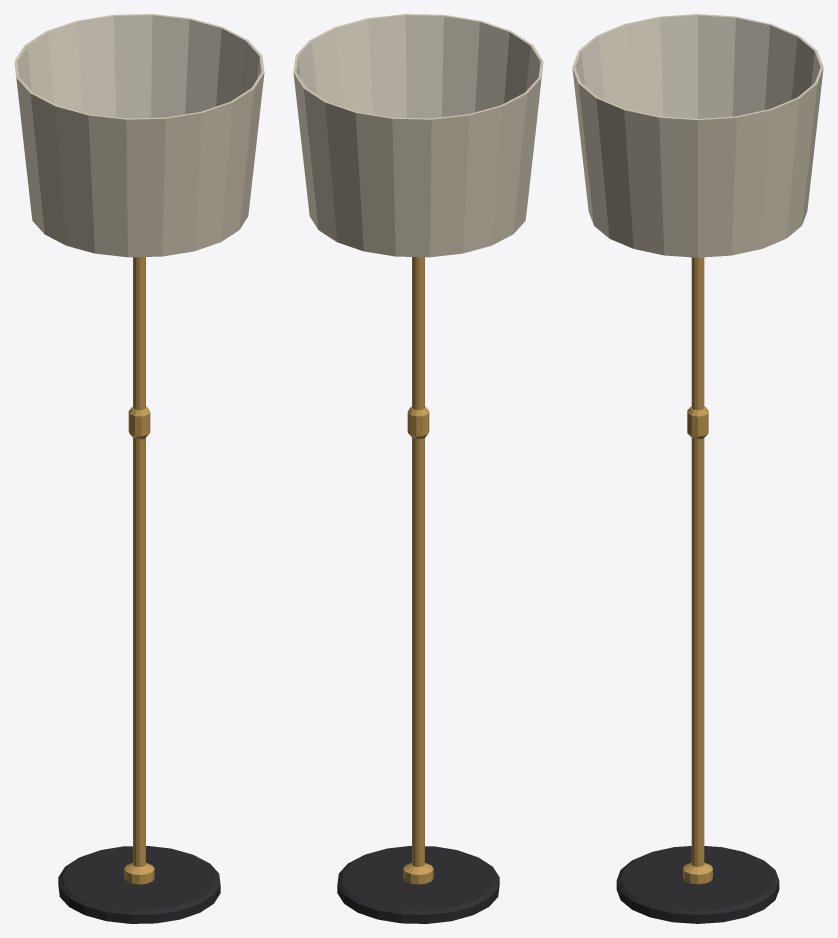
Rendered from FN_Lamp_Floor.glb.
3 renders of one model, left to right at view 1: azimuth 30°, elevation 25°; view 2: azimuth 150°, elevation 25°; view 3: azimuth 270°, elevation 25°, orthographic.
Visible parts, largest first — view 1: FN_Lamp_Floor; view 2: FN_Lamp_Floor; view 3: FN_Lamp_Floor.
Boxes of the visible parts, <box> form: FN_Lamp_Floor: <box>14,14,264,923</box>; FN_Lamp_Floor: <box>293,14,543,923</box>; FN_Lamp_Floor: <box>572,14,823,923</box>.
Size of the model in its own units: 0.432 by 1.56 by 0.432.
2 materials, 2 textured.
